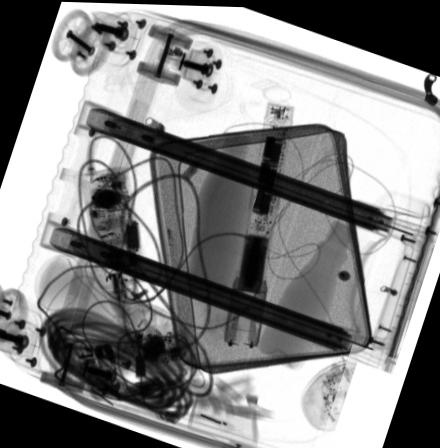Baton: (222, 99, 294, 348)
